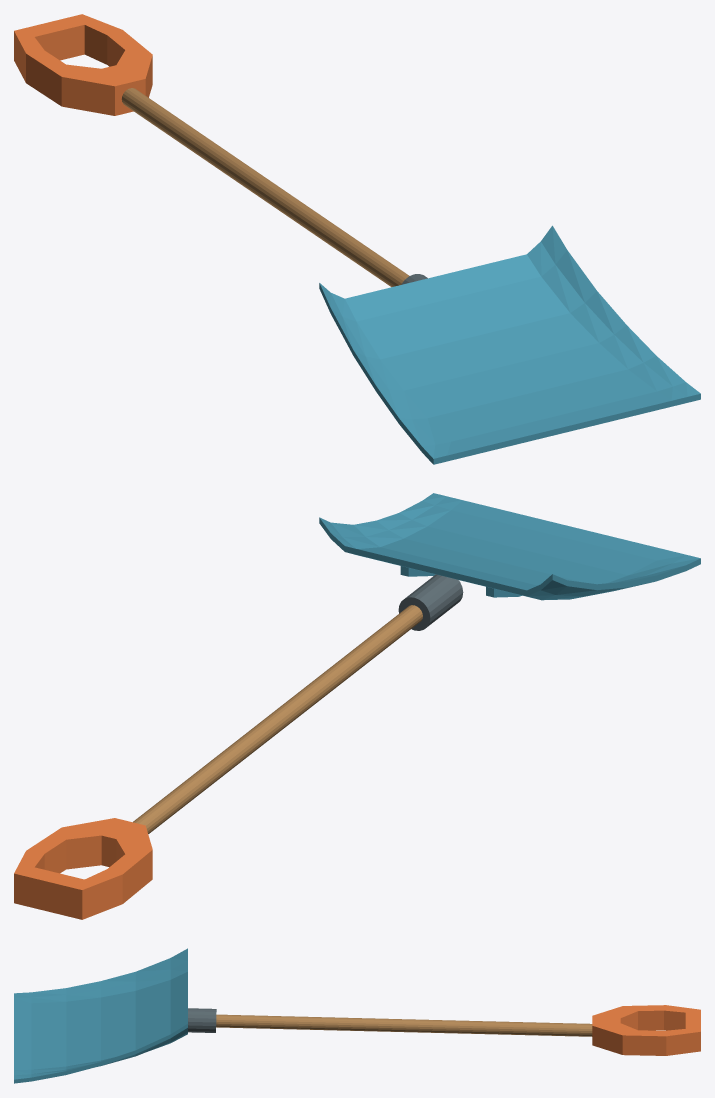
3 renders of one model, top to bottom at view 1: azimuth 30°, elevation 25°; view 2: azimuth 150°, elevation 25°; view 3: azimuth 270°, elevation 25°, orthographic. The views are drawn at different scales.
Parts seen in each view (by area): view 1: Scoop_ContinuousThickCurvedShell, DGrip_TrueThroughOpening, Shaft_LongInsertedWood; view 2: Scoop_ContinuousThickCurvedShell, DGrip_TrueThroughOpening, Shaft_LongInsertedWood, Socket_RealHollowRearCollar; view 3: Scoop_ContinuousThickCurvedShell, Shaft_LongInsertedWood, DGrip_TrueThroughOpening, Socket_RealHollowRearCollar.
Part boxes in pixels (x1,y1,x2,y2): Scoop_ContinuousThickCurvedShell: (319,225,700,464); DGrip_TrueThroughOpening: (14,14,152,115); Shaft_LongInsertedWood: (121,88,409,287); Scoop_ContinuousThickCurvedShell: (319,493,700,600); DGrip_TrueThroughOpening: (14,818,152,919); Shaft_LongInsertedWood: (133,605,422,833); Socket_RealHollowRearCollar: (398,574,463,630); Scoop_ContinuousThickCurvedShell: (14,948,187,1083); Shaft_LongInsertedWood: (216,1014,592,1036); DGrip_TrueThroughOpening: (592,1005,700,1055); Socket_RealHollowRearCollar: (188,1008,216,1032).
Size of the model in its own units: 0.47 by 0.138 by 1.58.
